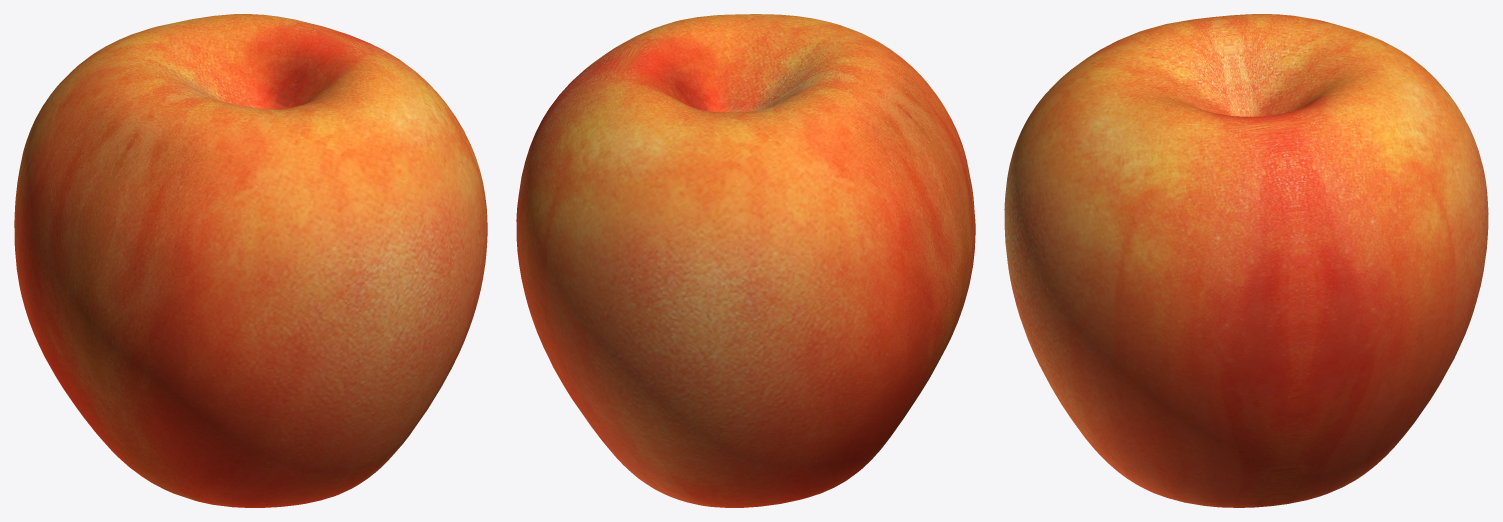
The model's file is apple.glb.
The picture shows the model from 3 angles, left to right: view 1: azimuth 30°, elevation 25°; view 2: azimuth 150°, elevation 25°; view 3: azimuth 270°, elevation 25°; orthographic projection.
Visible parts, largest first — view 1: APPLE.003; view 2: APPLE.003; view 3: APPLE.003.
Part boxes in pixels (box(x1,y1,x2,y2)): APPLE.003: box(14, 14, 487, 507); APPLE.003: box(516, 14, 975, 507); APPLE.003: box(1004, 14, 1488, 507).
Bounding box in the file's own units: 175 × 169 × 183.
1 material, 1 textured.
